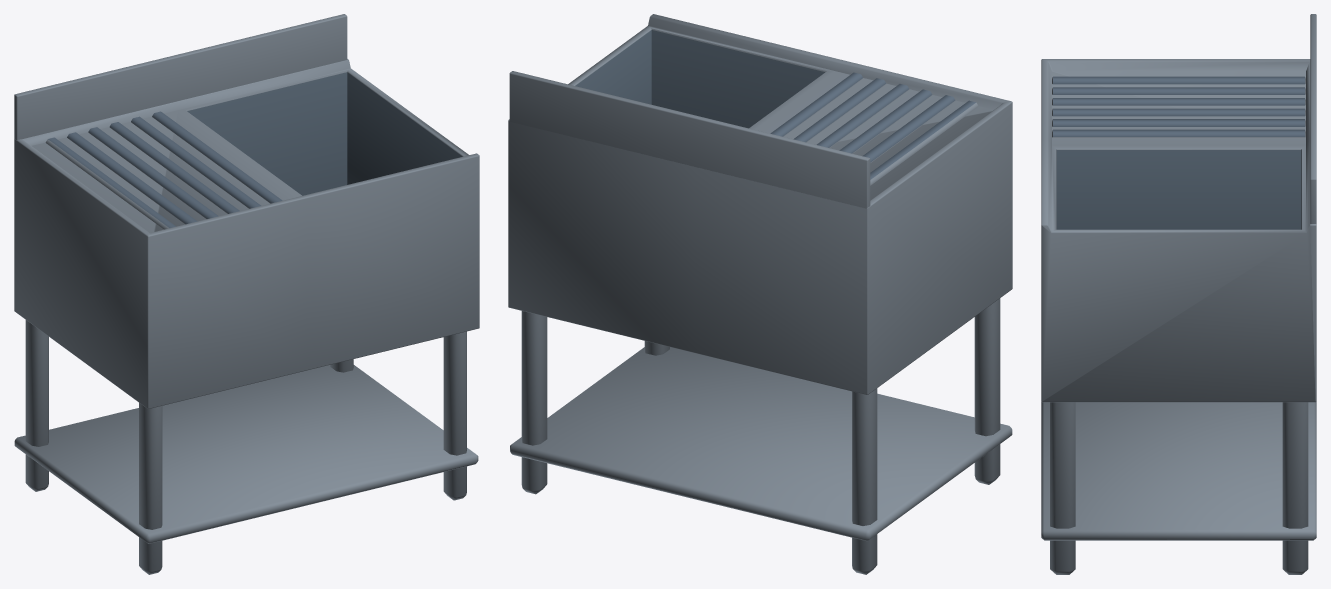
File: Sink-Bench-2.fbx
3 renders of one model, left to right at view 1: azimuth 30°, elevation 25°; view 2: azimuth 150°, elevation 25°; view 3: azimuth 270°, elevation 25°, orthographic. The views are drawn at different scales.
Visible parts, largest first — view 1: Sink-Bench-2; view 2: Sink-Bench-2; view 3: Sink-Bench-2.
Boxes of the visible parts, bbox=[...] form: Sink-Bench-2: bbox=[14, 14, 479, 574]; Sink-Bench-2: bbox=[508, 14, 1012, 574]; Sink-Bench-2: bbox=[1041, 14, 1316, 574].
Bounding box in the file's own units: 1 × 1.12 × 0.7.
